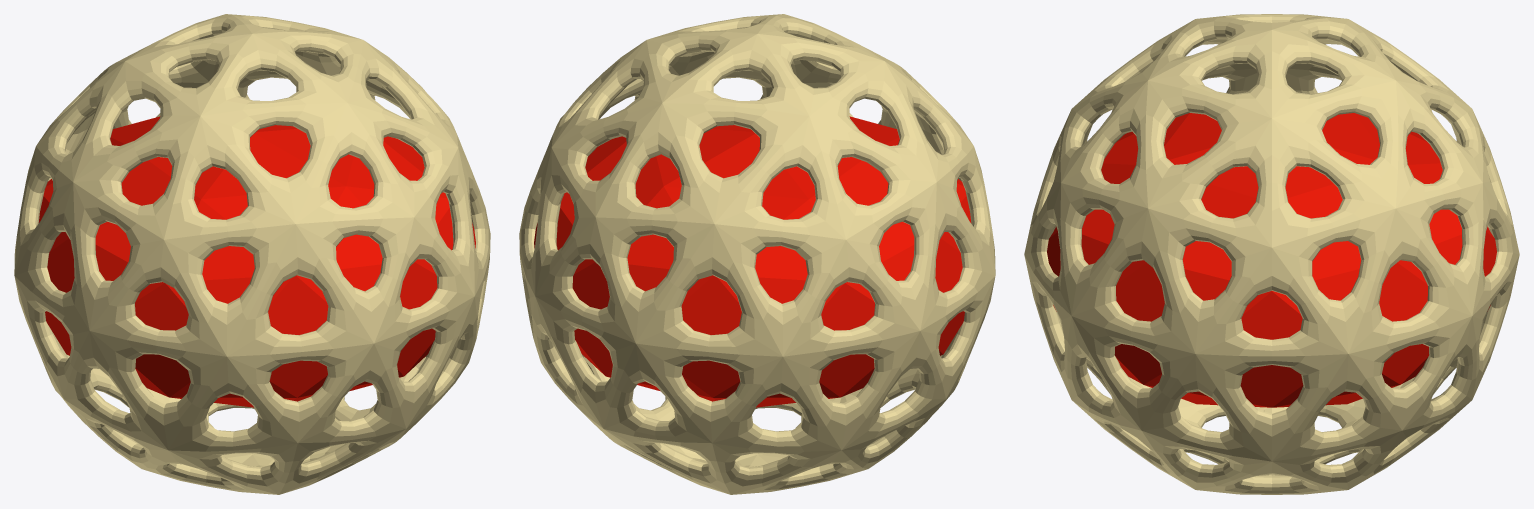
The model's file is keep falling.fbx.
The picture shows the model from 3 angles, left to right: view 1: azimuth 30°, elevation 25°; view 2: azimuth 150°, elevation 25°; view 3: azimuth 270°, elevation 25°; orthographic projection.
Parts seen in each view (by area): view 1: Icosphere, Icosphere.001; view 2: Icosphere, Icosphere.001; view 3: Icosphere, Icosphere.001.
Boxes of the visible parts, x1=… form: Icosphere: x1=14, y1=14, x2=490, y2=494; Icosphere.001: x1=38, y1=116, x2=475, y2=407; Icosphere: x1=519, y1=14, x2=995, y2=494; Icosphere.001: x1=534, y1=116, x2=971, y2=407; Icosphere: x1=1024, y1=14, x2=1519, y2=494; Icosphere.001: x1=1047, y1=113, x2=1496, y2=407.
Bounding box in the file's own units: 197 × 203 × 203.
